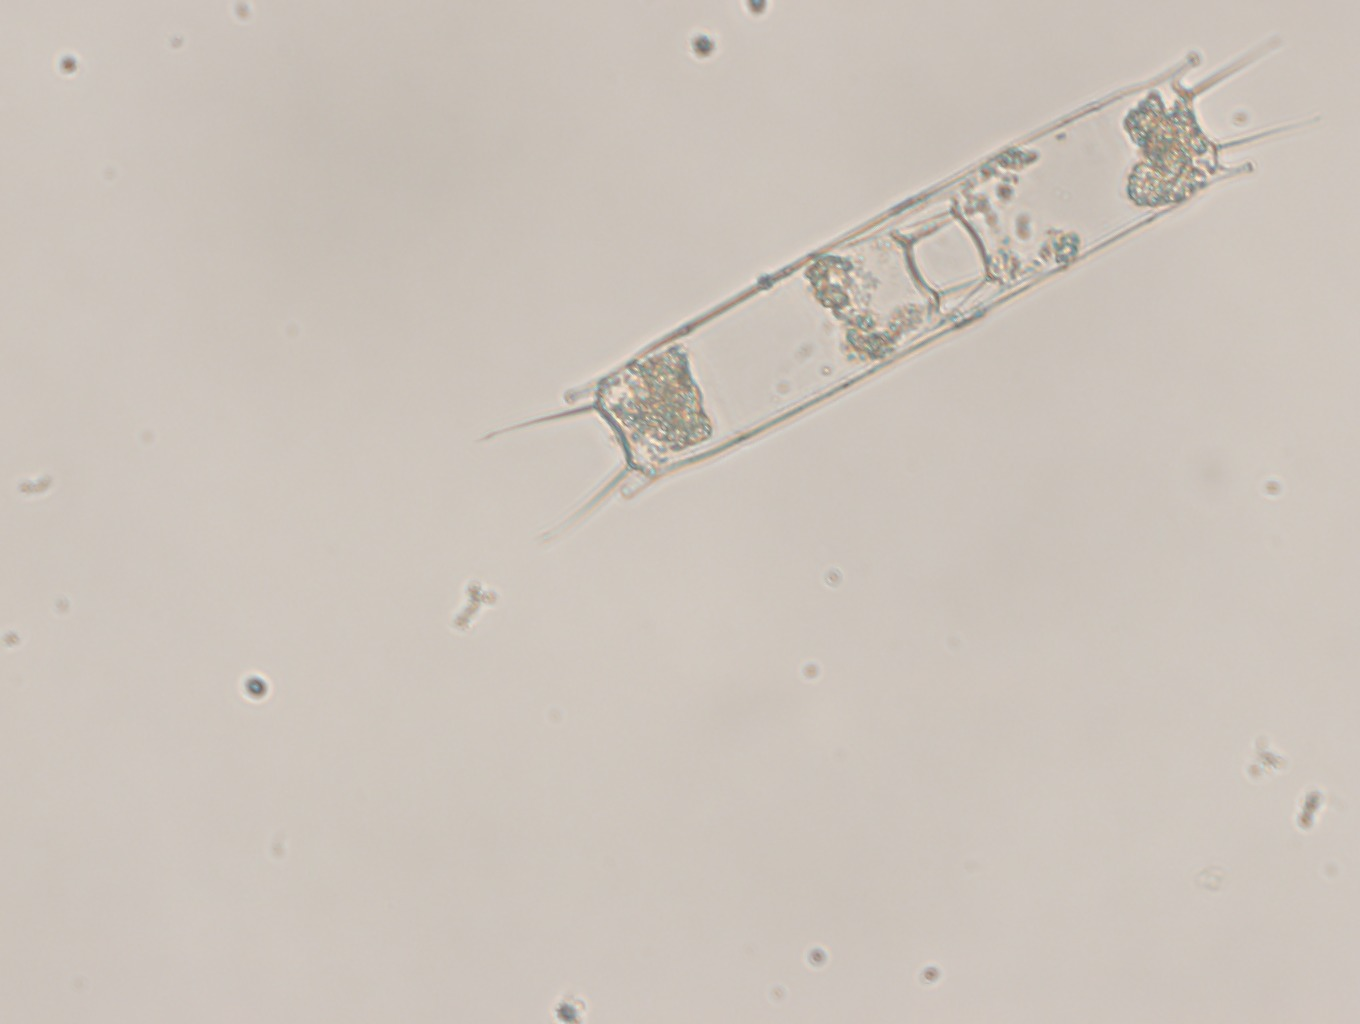biddulphia: (472, 34, 1344, 550)
